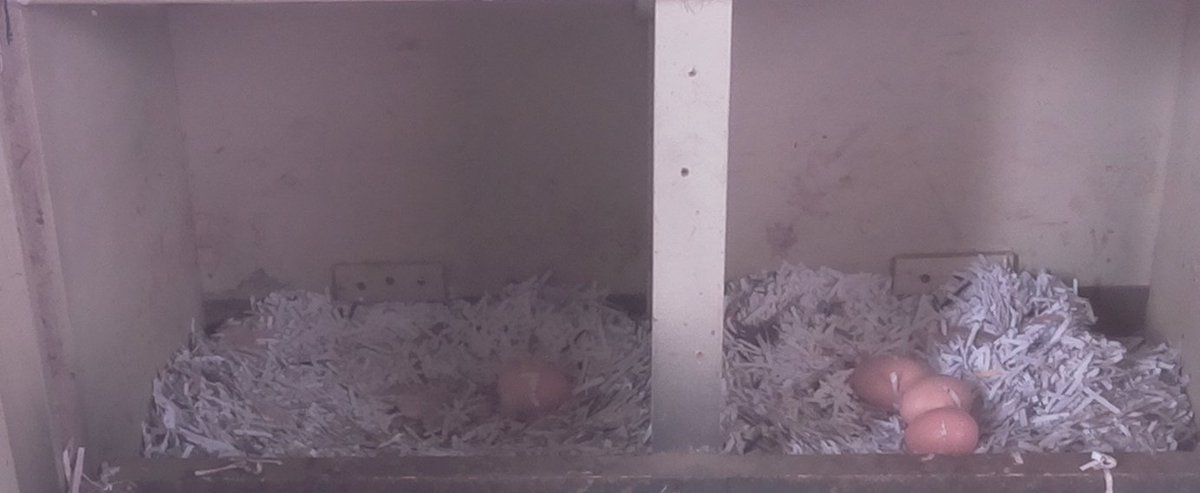egg: (490, 358, 572, 421), (847, 349, 934, 406), (900, 403, 980, 460), (895, 374, 977, 424)
